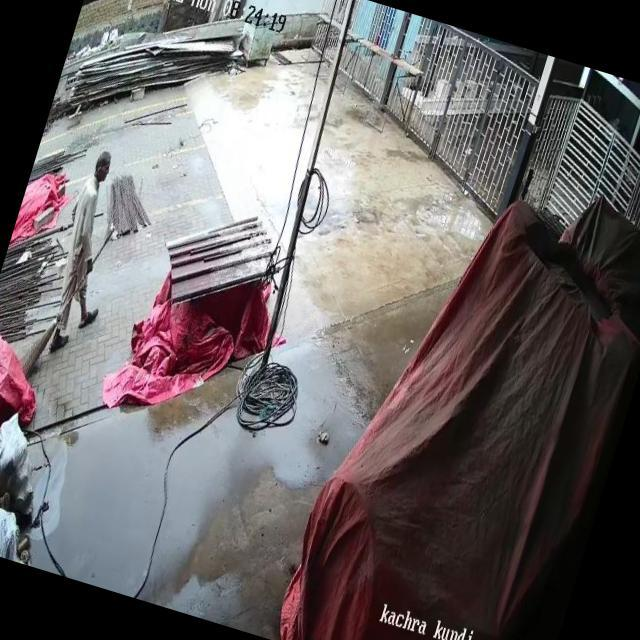person: (41, 143, 138, 340)
